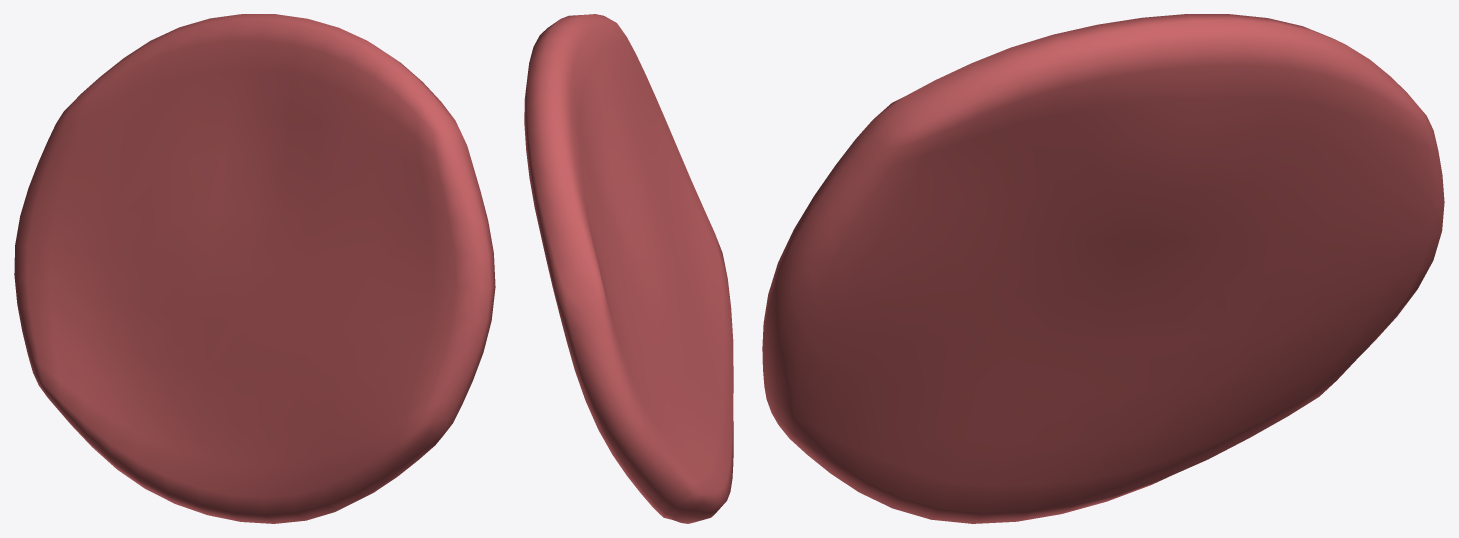
The picture shows the model from 3 angles, left to right: view 1: azimuth 30°, elevation 25°; view 2: azimuth 150°, elevation 25°; view 3: azimuth 270°, elevation 25°; orthographic projection. The views are drawn at different scales.
Parts seen in each view (by area): view 1: 右侧半膜肌囊; view 2: 右侧半膜肌囊; view 3: 右侧半膜肌囊.
Part boxes in pixels (<box>): 右侧半膜肌囊: <box>14,14,495,523</box>; 右侧半膜肌囊: <box>524,14,733,523</box>; 右侧半膜肌囊: <box>762,14,1444,523</box>.
Bounding box in the file's own units: 0.0184 × 0.0281 × 0.0304.
